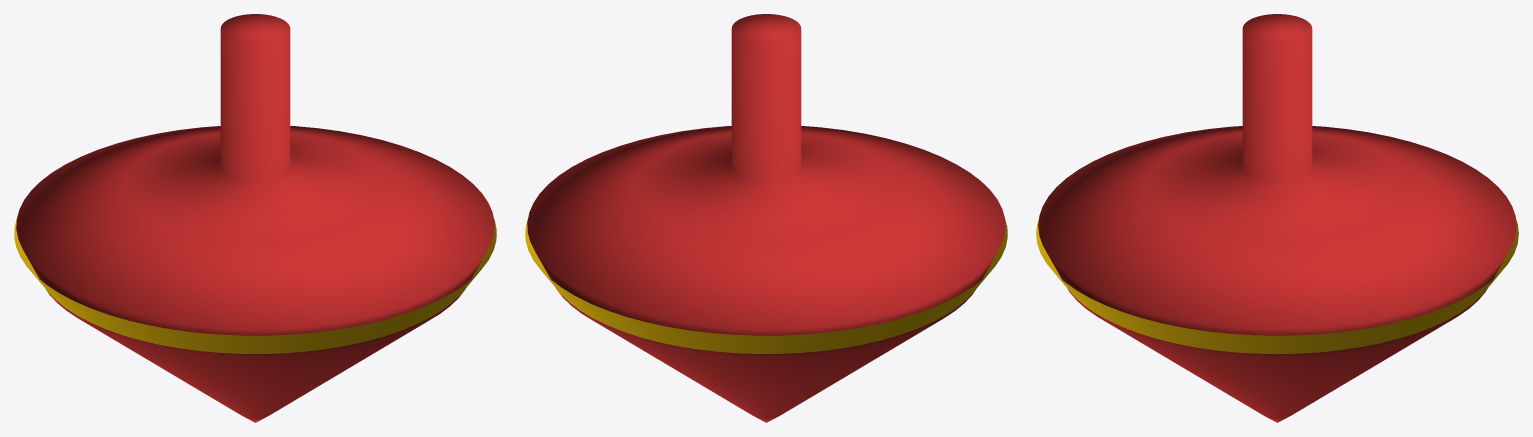
File: red.glb
The picture shows the model from 3 angles, left to right: view 1: azimuth 30°, elevation 25°; view 2: azimuth 150°, elevation 25°; view 3: azimuth 270°, elevation 25°; orthographic projection.
Visible parts, largest first — view 1: paint_primary_top, stripe; view 2: paint_primary_top, stripe; view 3: paint_primary_top, stripe.
Boxes of the visible parts, <box> form: paint_primary_top: <box>16,14,494,422</box>; stripe: <box>14,219,496,353</box>; paint_primary_top: <box>527,14,1005,422</box>; stripe: <box>525,219,1007,353</box>; paint_primary_top: <box>1038,14,1516,422</box>; stripe: <box>1036,219,1518,354</box>.
Bounding box in the file's own units: 0.111 × 0.1 × 0.111.
2 materials, 1 textured.
